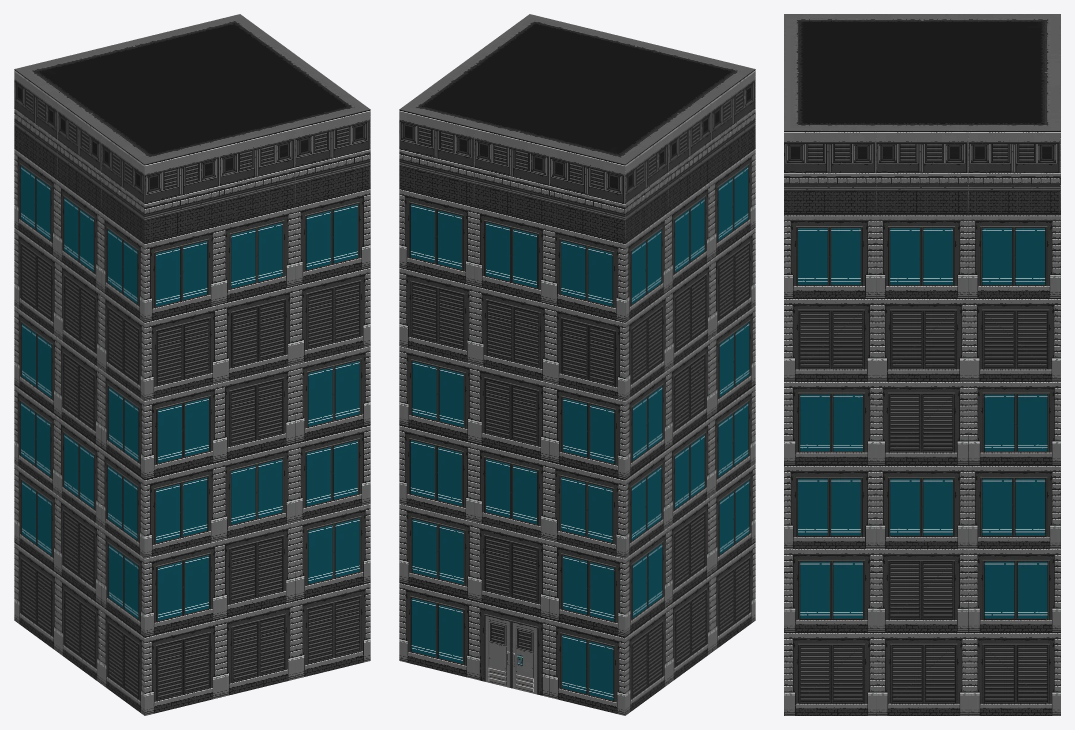
Rendered from cyb-megapredio.gltf.
The picture shows the model from 3 angles, left to right: view 1: azimuth 30°, elevation 25°; view 2: azimuth 150°, elevation 25°; view 3: azimuth 270°, elevation 25°; orthographic projection. The views are drawn at different scales.
Visible parts, largest first — view 1: gry_mid (×3), mid_1 (×2), roof, gry_btm_1, gry_top; view 2: gry_mid (×3), mid_1 (×2), roof, gry_btm_1, gry_top; view 3: gry_mid (×3), mid_1 (×2), roof, gry_btm_1, gry_top.
Boxes of the visible parts, x1,y1,x2,y2 form: gry_mid (×3): (14,148,370,558); mid_1 (×2): (14,305,370,636); roof: (14,14,370,164); gry_btm_1: (14,542,370,715); gry_top: (14,69,370,242); gry_mid (×3): (399,148,755,558); mid_1 (×2): (399,305,755,636); roof: (399,14,755,164); gry_btm_1: (399,542,755,715); gry_top: (399,69,755,242); gry_mid (×3): (784,214,1060,548); mid_1 (×2): (784,381,1060,632); roof: (784,14,1060,130); gry_btm_1: (784,632,1060,715); gry_top: (784,131,1060,214).
Bounding box in the file's own units: 6 × 14 × 6.
Materials: 3 (3 with a texture image).
